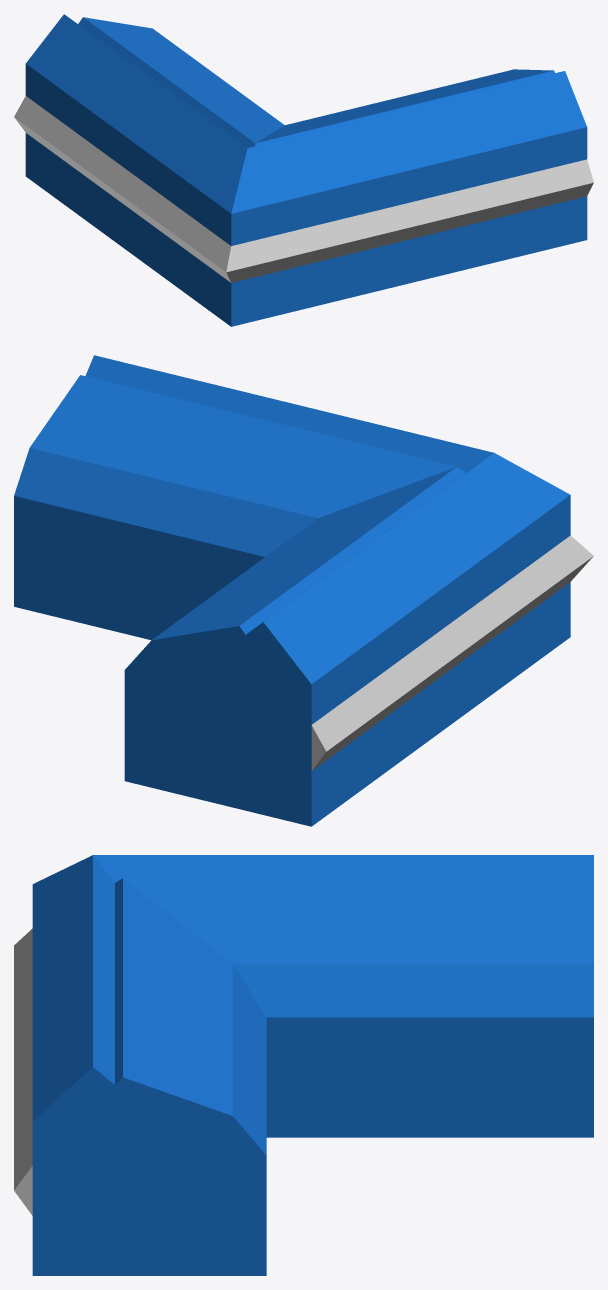
File: SM_roof_edge.fbx
3 renders of one model, top to bottom at view 1: azimuth 30°, elevation 25°; view 2: azimuth 150°, elevation 25°; view 3: azimuth 270°, elevation 25°, orthographic. The views are drawn at different scales.
Parts seen in each view (by area): view 1: roof_edge; view 2: roof_edge; view 3: roof_edge.
Part boxes in pixels (bbox=[...]): roof_edge: bbox=[14, 14, 593, 326]; roof_edge: bbox=[14, 355, 593, 826]; roof_edge: bbox=[14, 855, 593, 1275].
Bounding box in the file's own units: 65.25 × 25.96 × 65.25.
